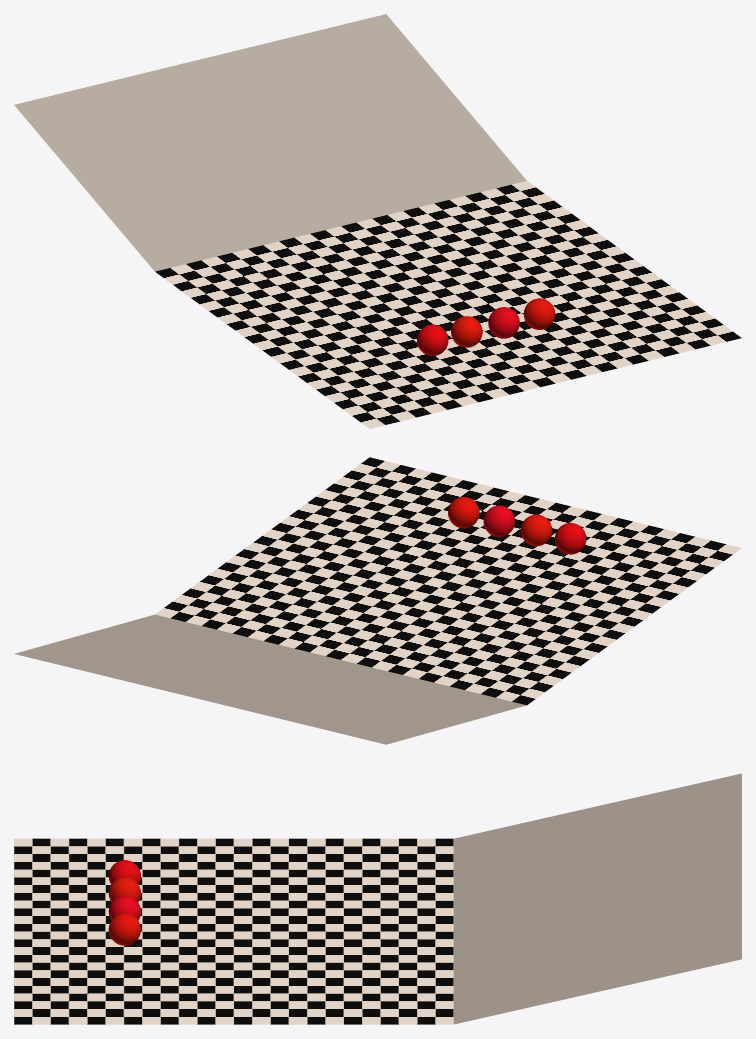
File: carMapCollider.glb
3 views of the same model, one above another, from view 1: azimuth 30°, elevation 25°; view 2: azimuth 150°, elevation 25°; view 3: azimuth 270°, elevation 25° (orthographic). The views are drawn at different scales.
Visible parts, largest first — view 1: Plane.106, Sphere, Sphere.001, Sphere.002, Sphere.003; view 2: Plane.106, Sphere.002, Sphere, Sphere.003, Sphere.001; view 3: Plane.106, Sphere, Sphere.001, Sphere.003, Sphere.002.
Part boxes in pixels (x1,y1,x2,y2): Plane.106: (14,14,741,428); Sphere: (523,298,555,329); Sphere.001: (451,316,482,347); Sphere.002: (417,324,448,355); Sphere.003: (488,307,519,338); Plane.106: (14,457,741,744); Sphere.002: (555,523,586,554); Sphere: (448,497,479,528); Sphere.003: (483,505,514,537); Sphere.001: (520,514,552,546); Plane.106: (14,773,741,1024); Sphere: (108,913,140,945); Sphere.001: (108,877,140,902); Sphere.003: (108,895,140,920); Sphere.002: (108,860,140,884).
Size of the model in its own units: 27.11 by 4.43 by 44.87.
Materials: 5 (1 with a texture image).
